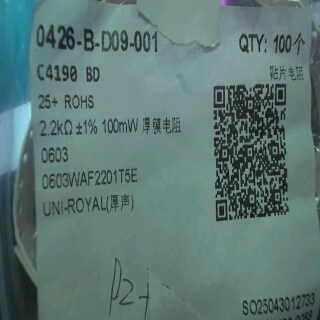2.2kR: (39, 116, 73, 141)
